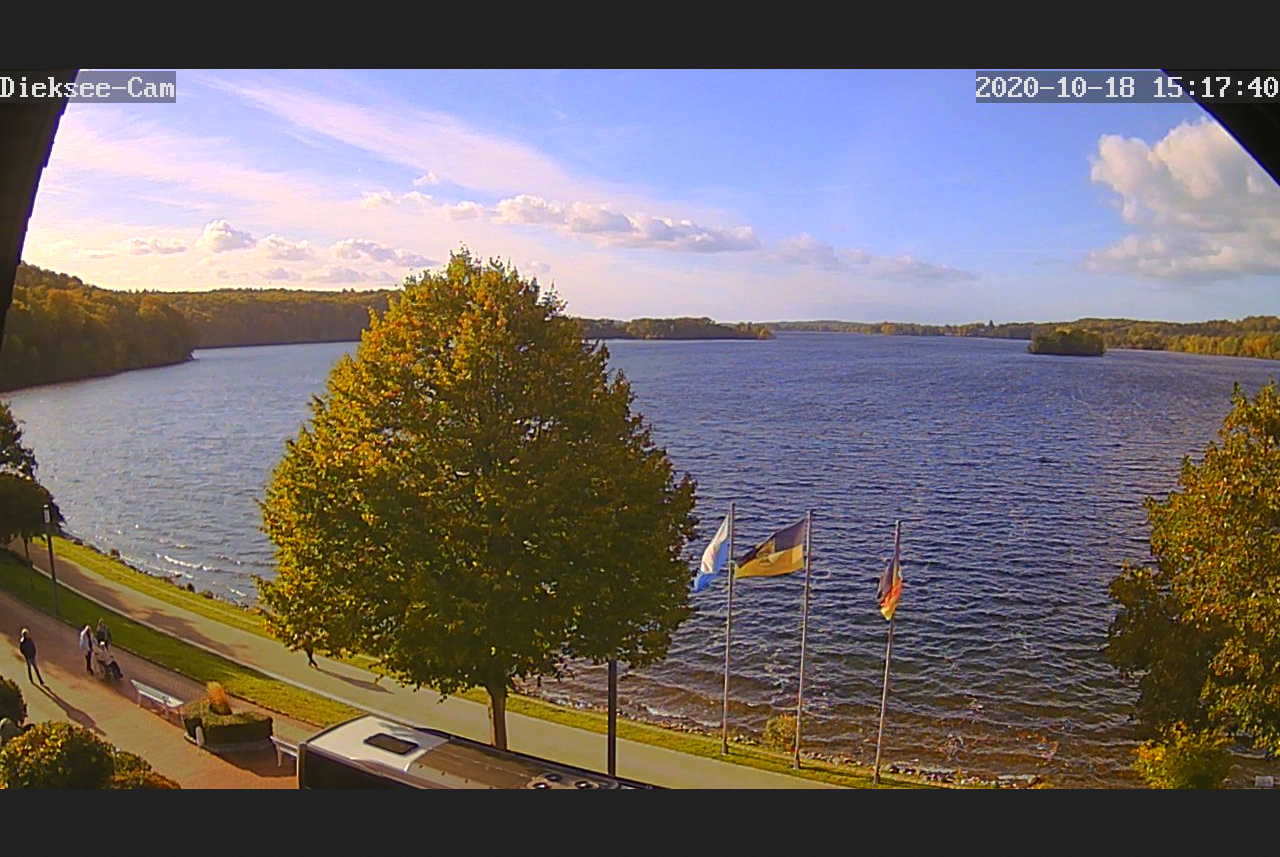maybe: (727, 506, 821, 587), (688, 501, 744, 591)
no: (868, 519, 913, 624)
